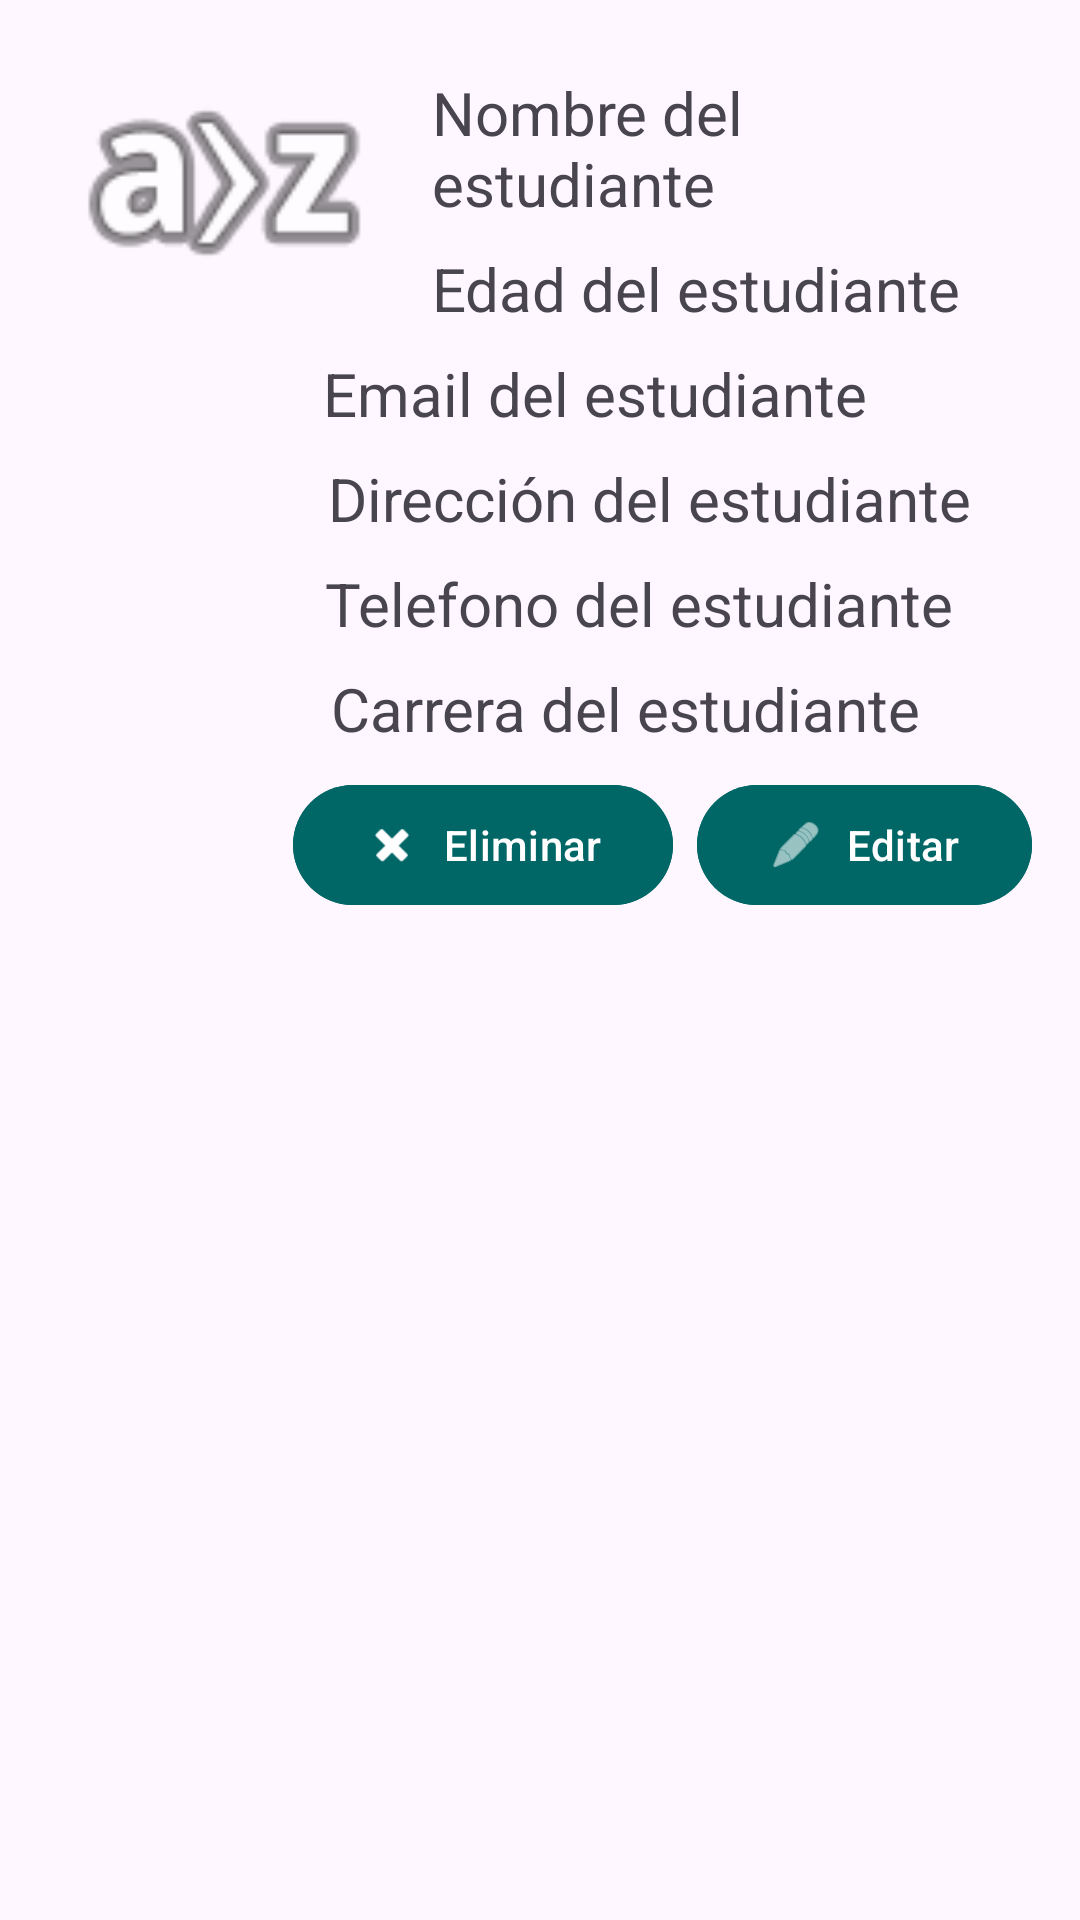

Icons on this 1080 × 1920 Android screen, each with the point to tap as (x,y):
sort alphabetically: (224,183)
